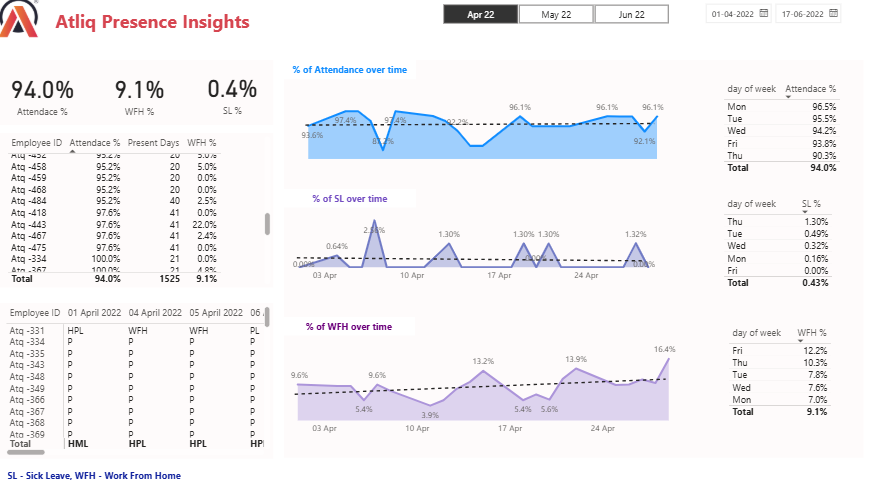

This screenshot's page, from the dashboard's own definition file:
{"tool":"powerbi","page":{"name":"Presence Insights","canvas":[1280,720],"ordinal":0},"visuals":[{"type":"textbox","box":[7.8,205.6,399.9,225.5],"z":0},{"type":"textbox","box":[7.8,453.3,399.8,227.6],"z":1000},{"type":"textbox","box":[422.3,97.9,848.1,582.3],"z":2000},{"type":"textbox","box":[7.8,98,399.9,95.4],"z":3000},{"type":"tableEx","fields":{"Values":["Final Data.Employee ID","Measures (2).Attendace %","Measures (2).Present Days","Measures (2).WFH %"]},"box":[12.6,205.2,394.9,225.7],"z":4000},{"type":"slicer","fields":{"Values":["Final Data.Date"]},"box":[1027.3,5.2,252.7,46.3],"z":5000},{"type":"slicer","fields":{"Values":["Final Data.MMM YY"]},"box":[630.4,10.5,379.5,35.8],"z":6000},{"type":"areaChart","fields":{"Category":["Final Data.MMM YY","Final Data.Date"],"Y":["Measures (2).WFH %"]},"box":[420.7,502.3,589,153.5],"z":7000},{"type":"areaChart","fields":{"Category":["Final Data.WeekNo","Final Data.Date"],"Y":["Measures (2).Attendace %"]},"box":[444.1,144.9,540.4,103.2],"z":8000},{"type":"card","fields":{"Values":["Measures (2).Attendace %"]},"box":[7.8,98,124,96.3],"z":9000},{"type":"card","fields":{"Values":["Measures (2).WFH %"]},"box":[141.4,98,138.8,96.3],"z":10000},{"type":"areaChart","fields":{"Category":["Final Data.MMM YY","Final Data.Date"],"Y":["Measures (2).SL %"]},"box":[422.5,307.1,556,124],"z":11000},{"type":"image","box":[0,0,70,71],"z":12000},{"type":"card","fields":{"Values":["Measures (2).SL %"]},"box":[286.3,97.2,121.4,96.3],"z":13000},{"type":"textbox","box":[70.3,0,320.1,71.1],"z":14000},{"type":"textbox","box":[422.4,98.2,192.5,27.5],"z":15000},{"type":"textbox","box":[422.5,286.3,192.6,26.9],"z":16000},{"type":"textbox","box":[422.1,473.7,192.6,27.2],"z":17000},{"type":"pivotTable","fields":{"Rows":["Final Data.Employee ID"],"Columns":["Final Data.Date"],"Values":["Min(Final Data.Value)"]},"box":[11.7,453.3,395.9,227.6],"z":18000},{"type":"textbox","box":[13.6,691.6,289.8,28.2],"z":19000},{"type":"tableEx","fields":{"Values":["Final Data.day of week","Measures (2).Attendace %"]},"box":[1060.9,125.8,209.9,145.7],"z":20000},{"type":"tableEx","fields":{"Values":["Final Data.day of week","Measures (2).SL %"]},"box":[1060.9,294.1,191.7,167.4],"z":21000},{"type":"tableEx","fields":{"Values":["Final Data.day of week","Measures (2).WFH %"]},"box":[1068.7,483.2,170,167.4],"z":22000}]}

Visuals, with their boxes in screenshot pixels (x1, y1, x2, y2), scaled from the page's 1280x720 canvas onto the 869x484 screenshot:
textbox: bbox(5, 138, 277, 290)
textbox: bbox(5, 305, 277, 458)
textbox: bbox(287, 66, 862, 457)
textbox: bbox(5, 66, 277, 130)
tableEx - Final Data.Employee ID x Measures (2).Attendace %: bbox(9, 138, 277, 290)
slicer - Final Data.Date: bbox(697, 3, 868, 35)
slicer - Final Data.MMM YY: bbox(428, 7, 686, 31)
areaChart - Final Data.MMM YY x Final Data.Date: bbox(286, 338, 685, 441)
areaChart - Final Data.WeekNo x Final Data.Date: bbox(302, 97, 668, 167)
card - Measures (2).Attendace %: bbox(5, 66, 89, 131)
card - Measures (2).WFH %: bbox(96, 66, 190, 131)
areaChart - Final Data.MMM YY x Final Data.Date: bbox(287, 206, 664, 290)
image: bbox(0, 0, 48, 48)
card - Measures (2).SL %: bbox(194, 65, 277, 130)
textbox: bbox(48, 0, 265, 48)
textbox: bbox(287, 66, 417, 84)
textbox: bbox(287, 192, 418, 211)
textbox: bbox(287, 318, 417, 337)
pivotTable - Final Data.Employee ID x Final Data.Date: bbox(8, 305, 277, 458)
textbox: bbox(9, 465, 206, 483)
tableEx - Final Data.day of week x Measures (2).Attendace %: bbox(720, 85, 863, 183)
tableEx - Final Data.day of week x Measures (2).SL %: bbox(720, 198, 850, 310)
tableEx - Final Data.day of week x Measures (2).WFH %: bbox(726, 325, 841, 437)
